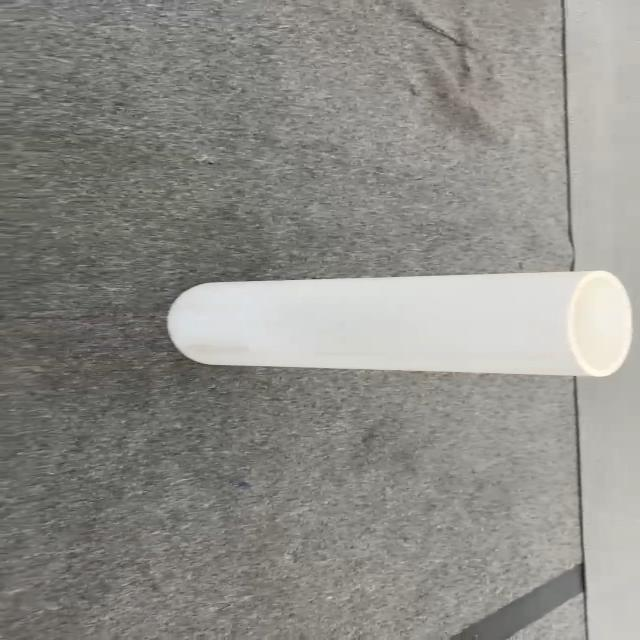coral: (165, 268, 633, 378)
